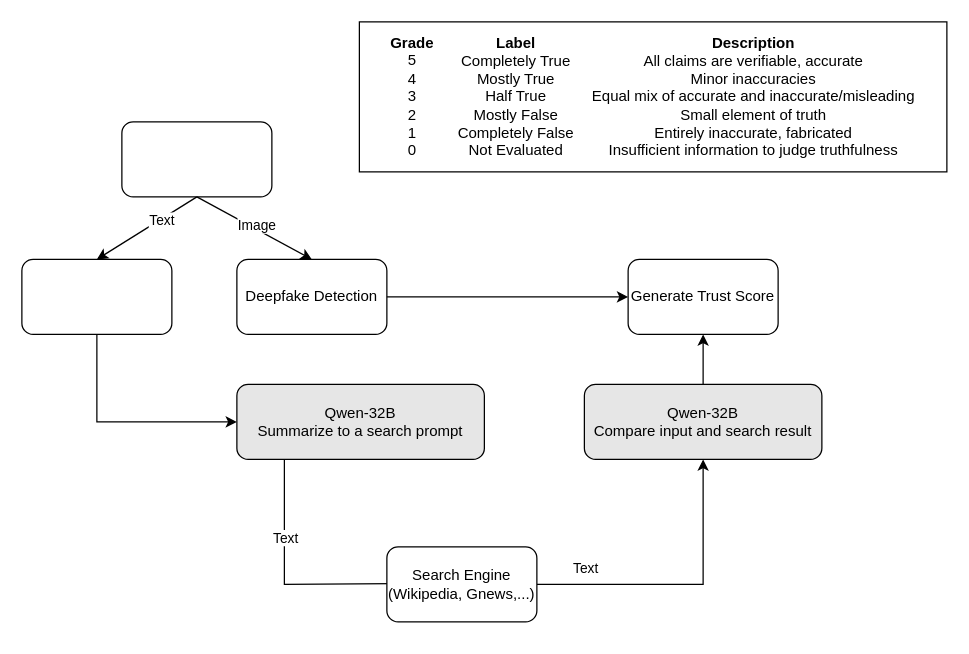
This 969x654 diagram has some shape labels left out. The centre of each missing label's shape, as x and y in pixels:
"Preprocessing" goes at point (96, 296).
"User Input" goes at point (196, 159).
